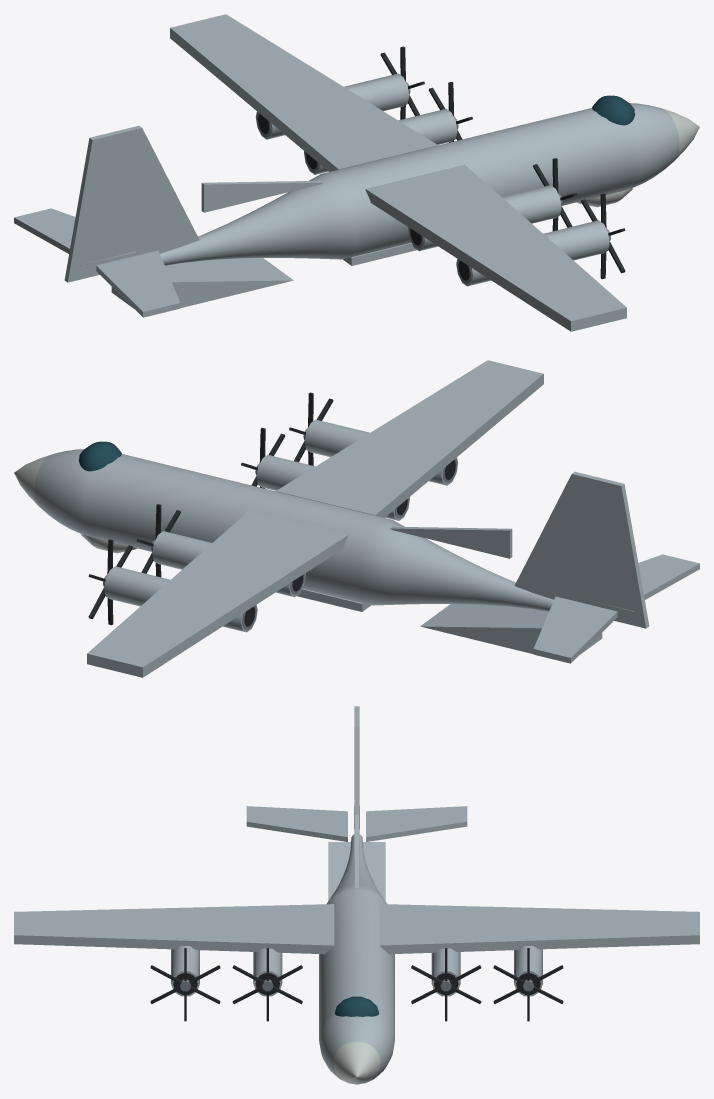
The model's file is pla_mpa_y8q.glb.
3 renders of one model, top to bottom at view 1: azimuth 30°, elevation 25°; view 2: azimuth 150°, elevation 25°; view 3: azimuth 270°, elevation 25°, orthographic. The views are drawn at different scales.
Visible parts, largest first — view 1: naval_paint, rubber, array_face, glazing; view 2: naval_paint, rubber, array_face, glazing; view 3: naval_paint, rubber, array_face, glazing.
Boxes of the visible parts, x1=… form: naval_paint: x1=14, y1=14, x2=679, y2=331; rubber: x1=258, y1=46, x2=625, y2=280; array_face: x1=80, y1=109, x2=699, y2=265; glazing: x1=592, y1=95, x2=635, y2=125; naval_paint: x1=34, y1=360, x2=699, y2=677; rubber: x1=88, y1=392, x2=455, y2=626; array_face: x1=14, y1=455, x2=633, y2=611; glazing: x1=78, y1=441, x2=121, y2=471; naval_paint: x1=14, y1=706, x2=699, y2=1083; rubber: x1=150, y1=948, x2=563, y2=1021; array_face: x1=333, y1=806, x2=380, y2=1084; glazing: x1=334, y1=996, x2=379, y2=1016.
Bounding box in the file's own units: 9.13 × 2.59 × 10.
